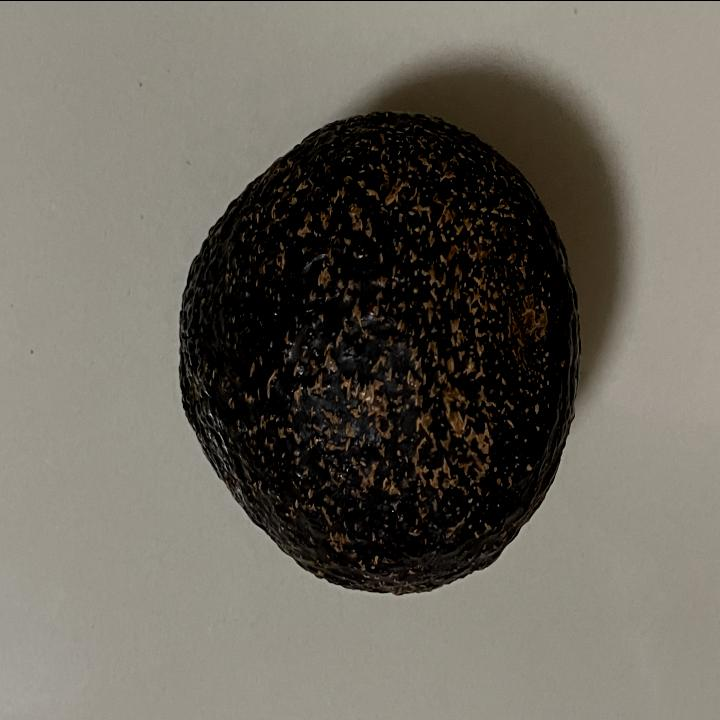Level3: (166, 102, 590, 604)
